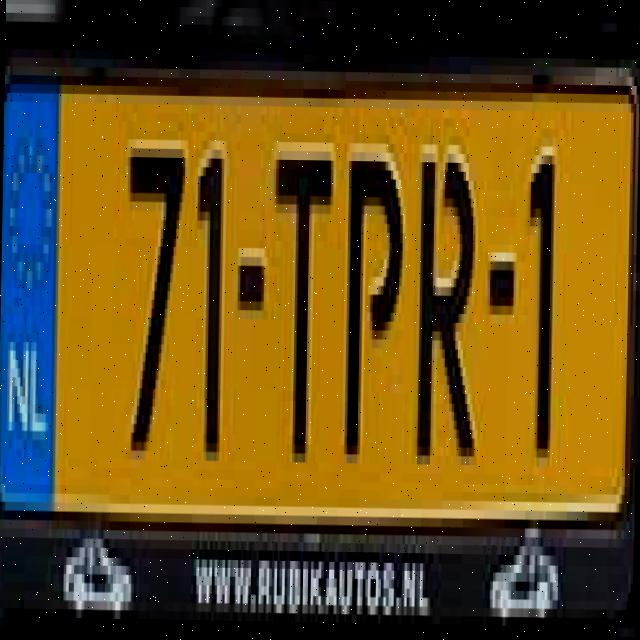EU: (0, 73, 632, 544)
Pays-Bas: (0, 65, 62, 504)
